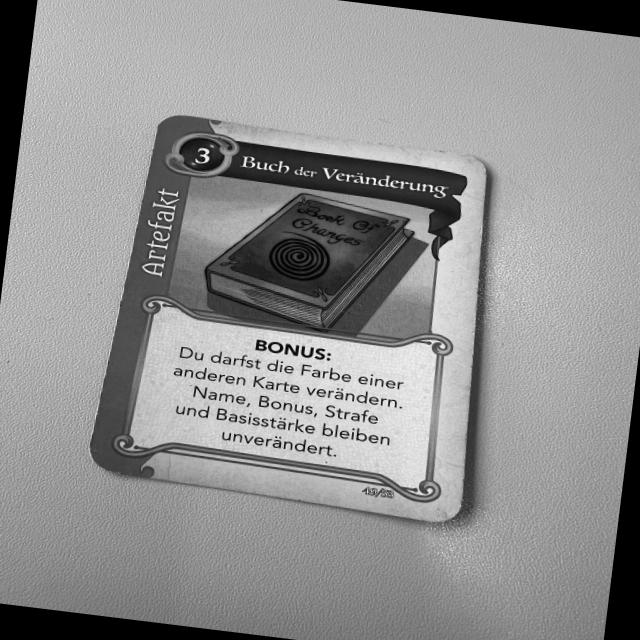Book Of Changes: (82, 110, 490, 528)
